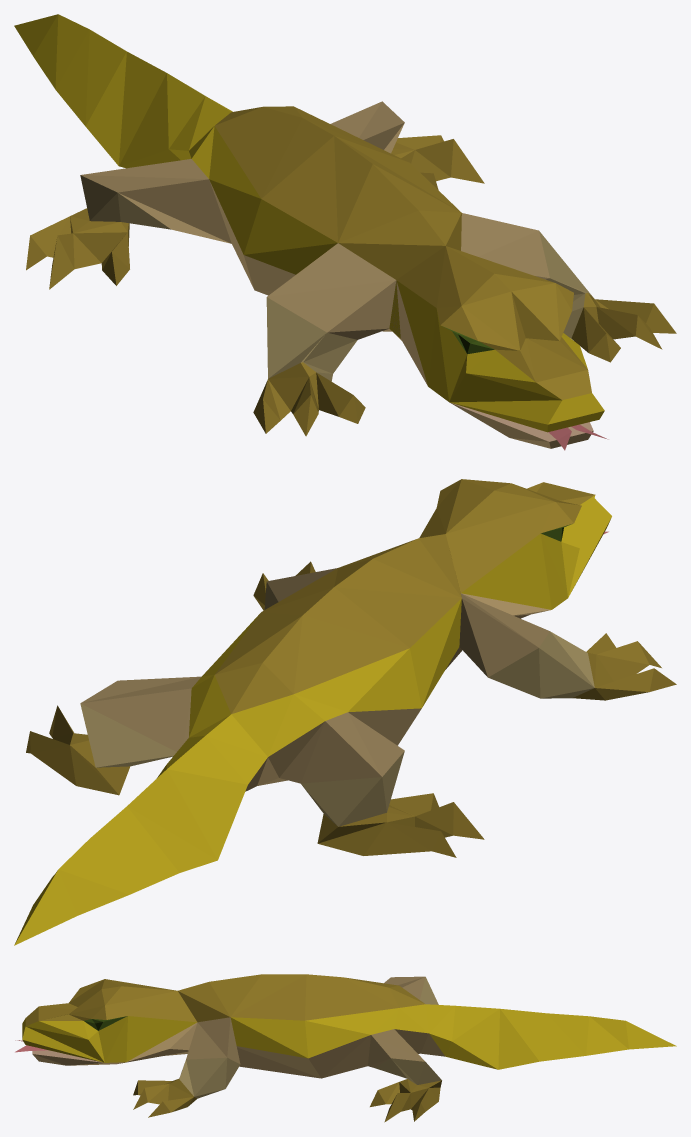
Rendered from desert_lizard.glb.
3 renders of one model, top to bottom at view 1: azimuth 30°, elevation 25°; view 2: azimuth 150°, elevation 25°; view 3: azimuth 270°, elevation 25°, orthographic. The views are drawn at different scales.
Bounding box in the file's own units: 176 × 58 × 401.
Materials: 1 (1 with a texture image).
